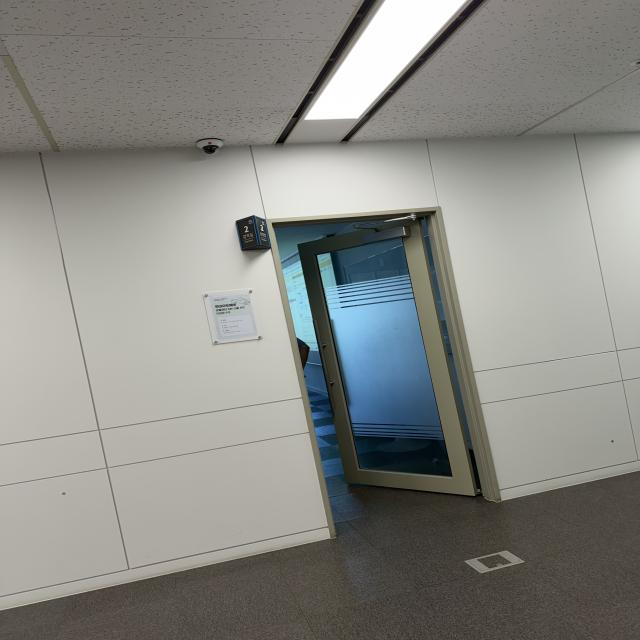room2: (236, 214, 258, 252)
